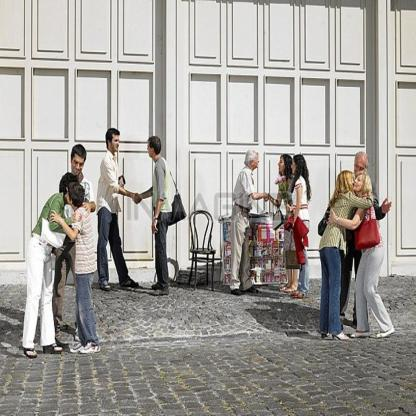face: (73, 155, 85, 176), (355, 161, 367, 179), (355, 176, 365, 192), (111, 135, 120, 151), (279, 159, 286, 172), (253, 155, 260, 168), (293, 160, 299, 174), (148, 143, 154, 157), (67, 193, 73, 206)
